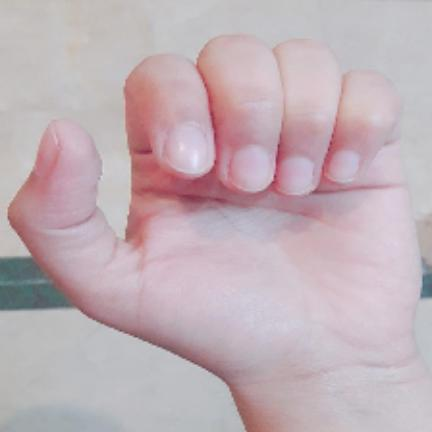Nail: (165, 122, 208, 174), (229, 144, 274, 192), (31, 127, 60, 176), (277, 156, 313, 195), (326, 149, 360, 184)
